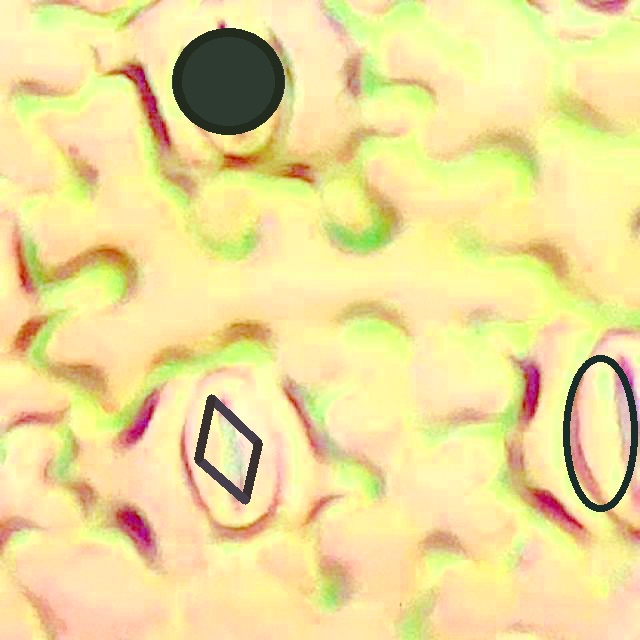open: (172, 28, 284, 134), (563, 354, 638, 512), (194, 395, 261, 503)
